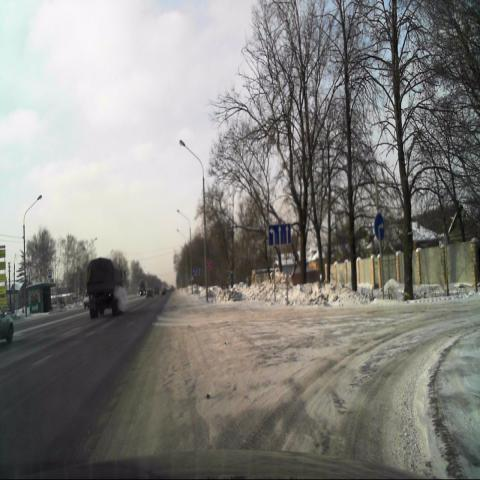4_1_2: (374, 214, 384, 241)
